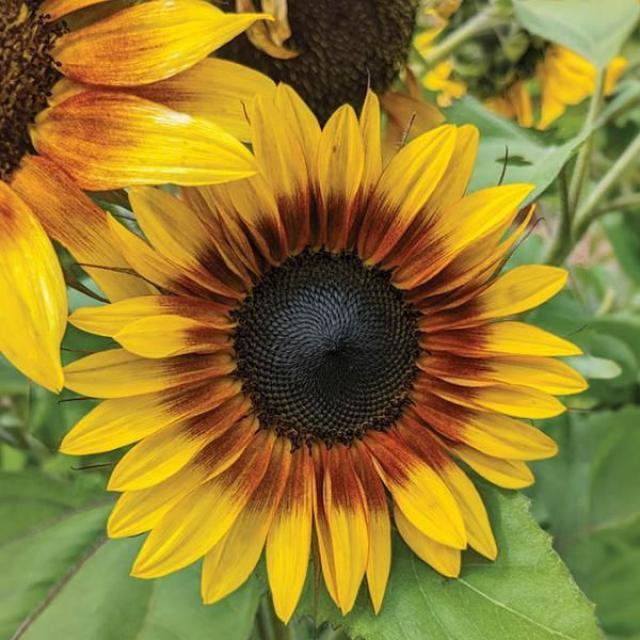sunflower: (55, 73, 589, 624), (0, 0, 279, 393), (208, 0, 447, 157), (411, 0, 628, 130)
